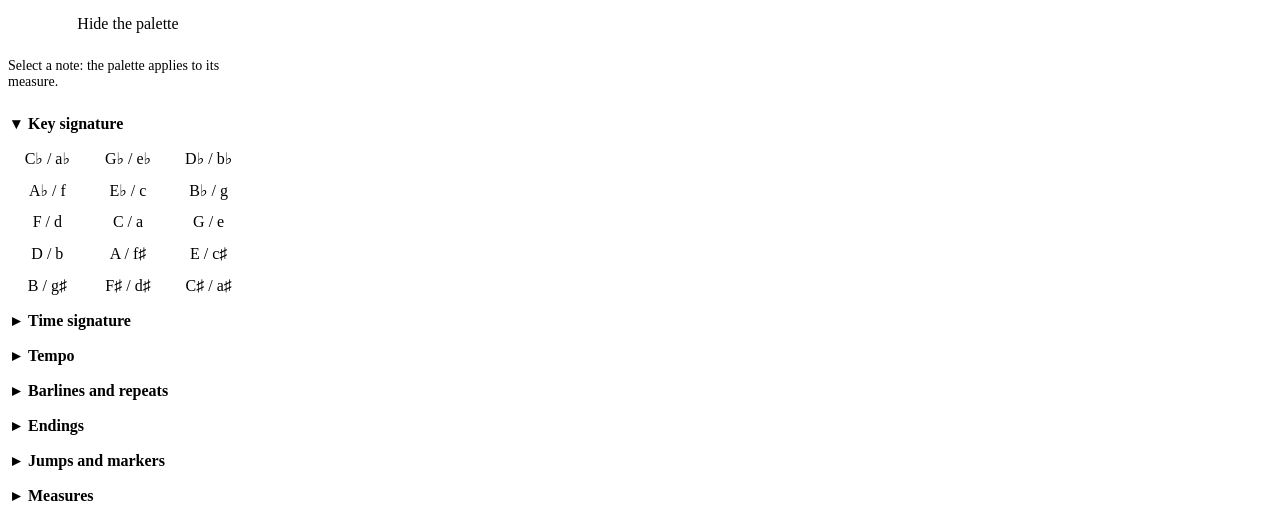
Test: the palette › asks for a selection first, and folds away
Expected: the text "Select a note: the palette applies to its measure." is shown, [8,58,248,90]
Expected: the button "C / a" is disabled, [89,207,167,237]
Click the button "Hide the palette". click: (128, 24)
box: [8,8,248,40]
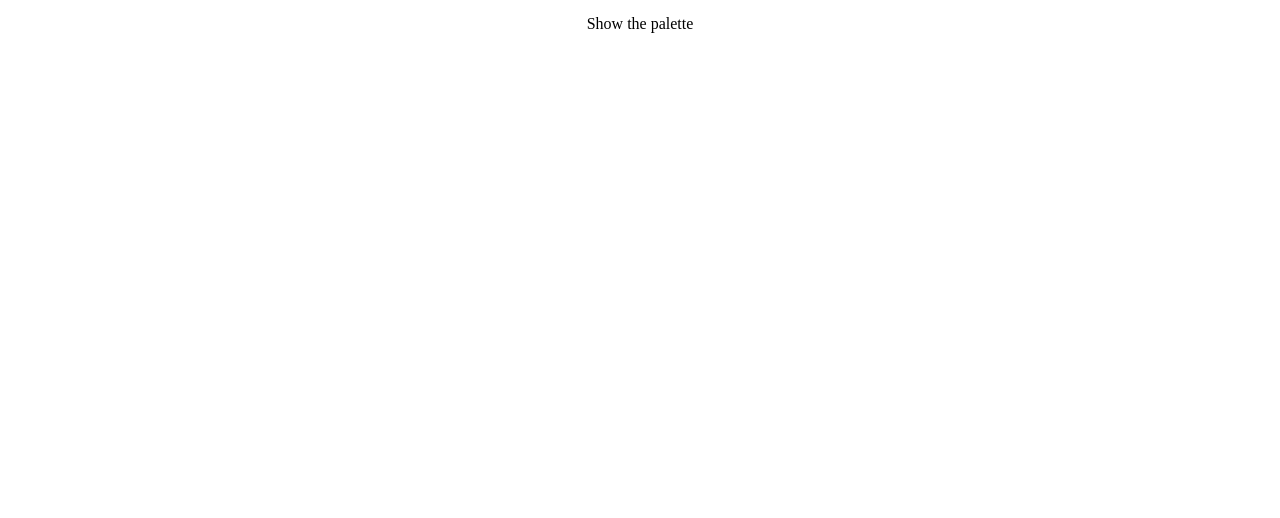
Now the button "C / a" is gone
Now the button "Show the palette" is shown, box [8,8,1272,40]
